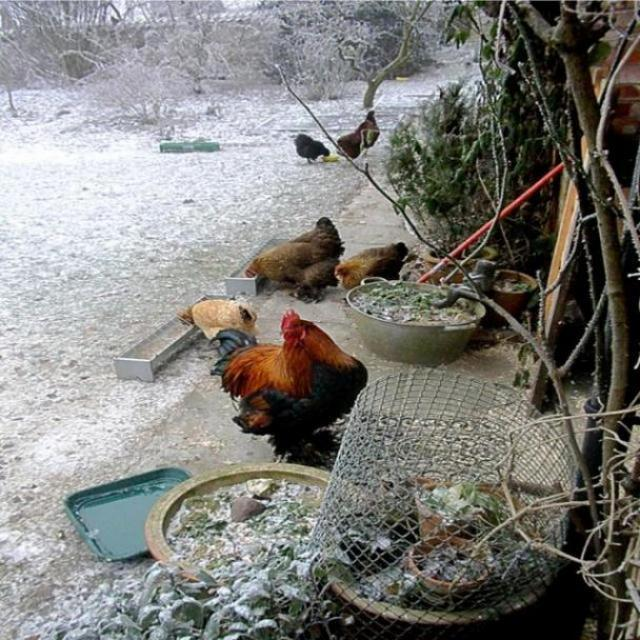Chicken: (224, 310, 377, 454), (241, 210, 353, 309), (178, 298, 258, 361), (333, 241, 407, 293), (325, 108, 387, 158), (296, 132, 334, 167)
